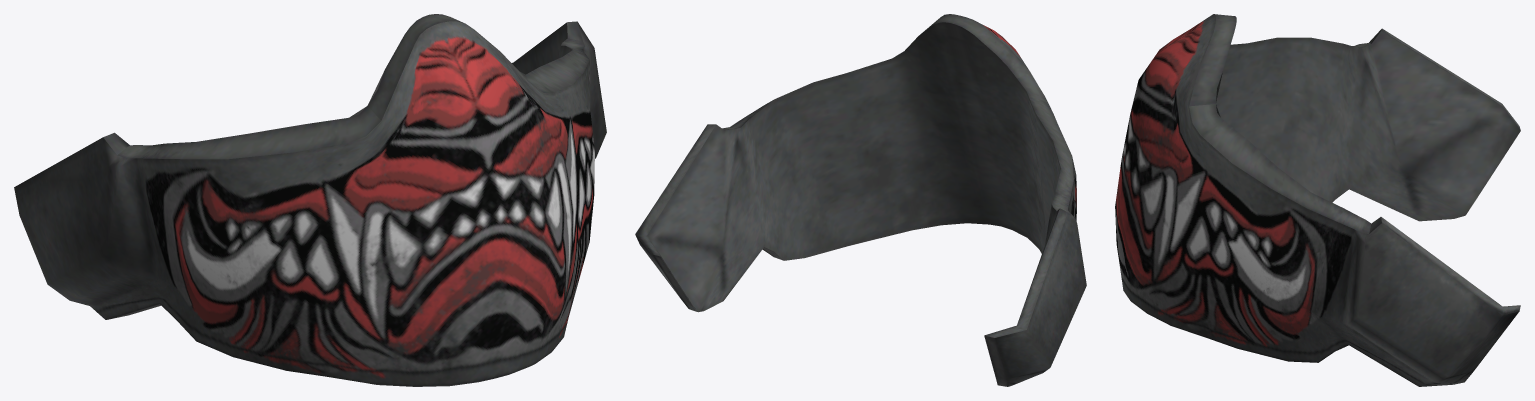
File: TaskForceBallisticMask_Ground.fbx
3 renders of one model, left to right at view 1: azimuth 30°, elevation 25°; view 2: azimuth 150°, elevation 25°; view 3: azimuth 270°, elevation 25°, orthographic. The views are drawn at different scales.
Visible parts, largest first — view 1: Ballistic Mask; view 2: Ballistic Mask; view 3: Ballistic Mask.
Boxes of the visible parts, <box> form: Ballistic Mask: <box>14,14,606,386</box>; Ballistic Mask: <box>635,14,1086,386</box>; Ballistic Mask: <box>1115,14,1520,386</box>.
Size of the model in its own units: 0.1299 by 0.0795 by 0.1041.
